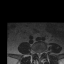CCS_normal: (38, 51, 40, 59)
LFS_stenosis: (42, 49, 44, 55)
LLS_normal: (40, 51, 42, 57)
RFS_severe_stenosis: (34, 50, 36, 55)
RLS_normal: (36, 51, 38, 57)
